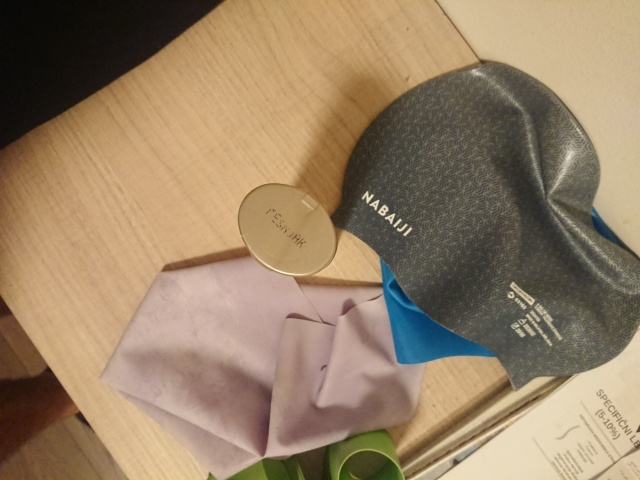Kotanyi Garlic Granules 70g: (235, 180, 341, 281)
